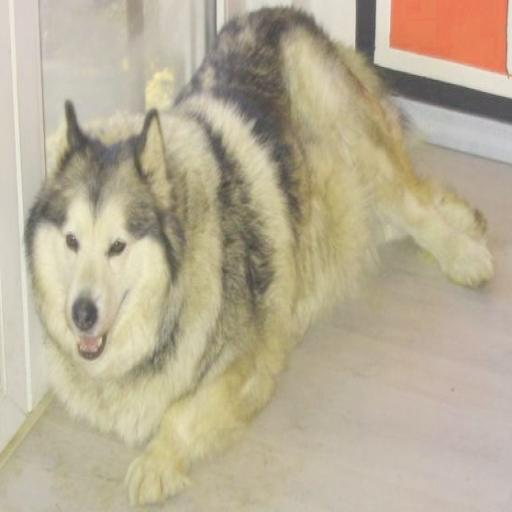dog_face: (40, 96, 172, 362)
